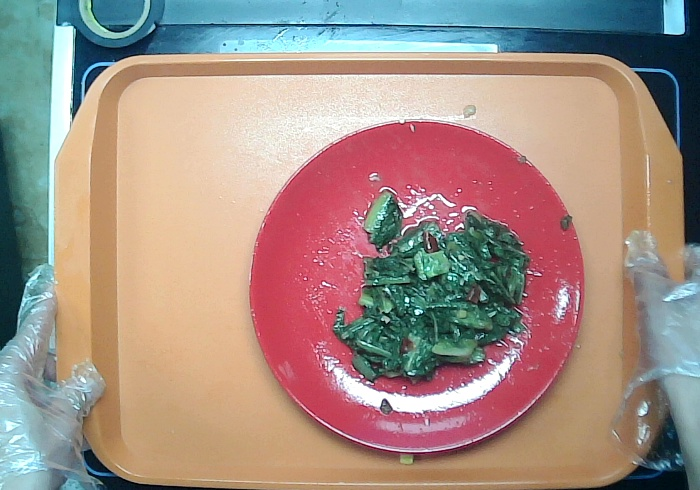HZYJPL-Hong_Se_Yuan_Pan: (247, 119, 590, 455)
